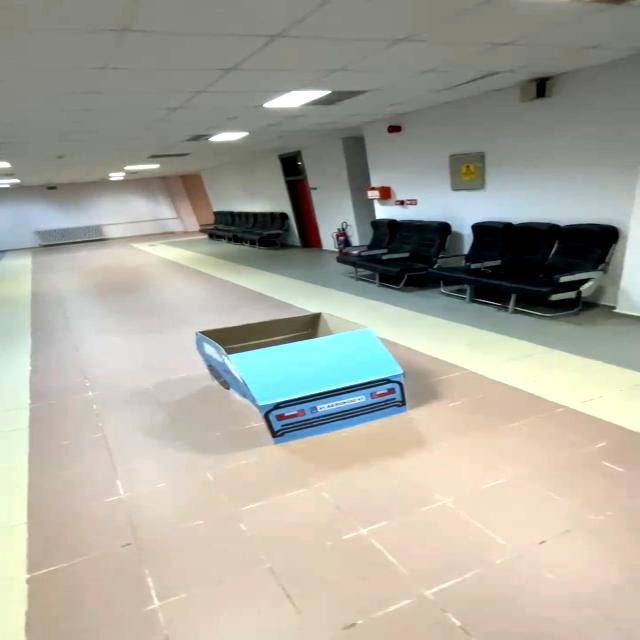blue_car: (183, 302, 421, 462)
